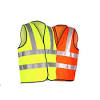jacket: (7, 7, 57, 81), (53, 20, 83, 86)
